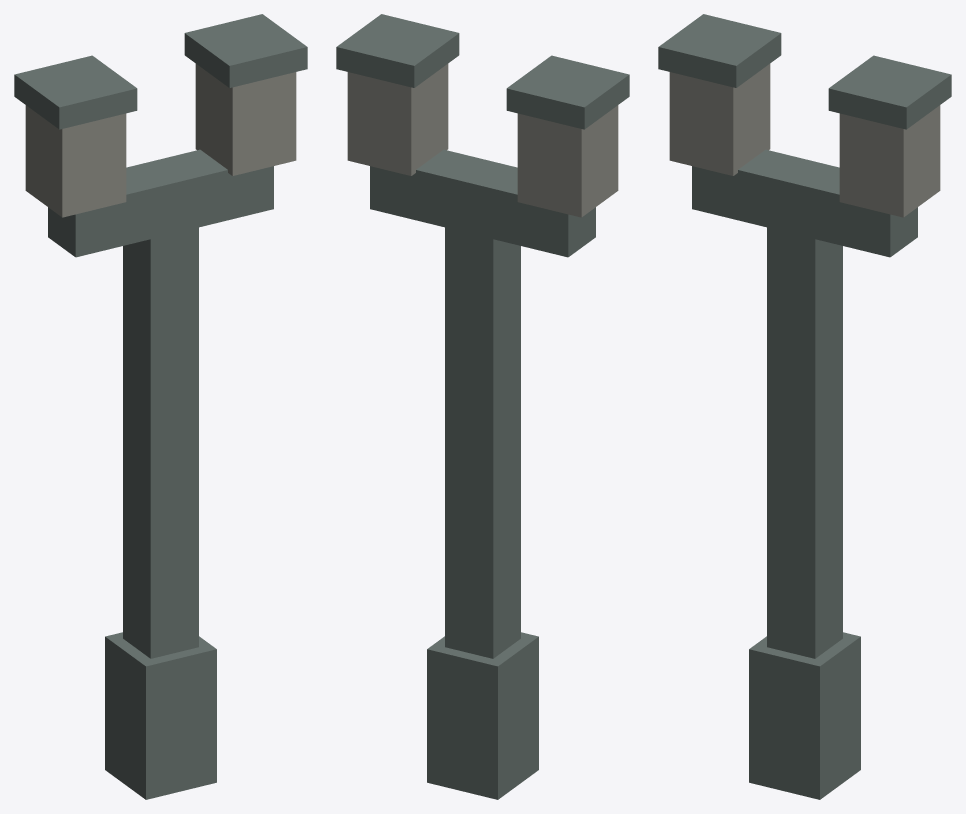
File: SM_Farola_v2_LOD1.fbx
3 views of the same model, side by side, from view 1: azimuth 30°, elevation 25°; view 2: azimuth 150°, elevation 25°; view 3: azimuth 330°, elevation 25° (orthographic).
Visible parts, largest first — view 1: SM_urbano_v7_LOD1; view 2: SM_urbano_v7_LOD1; view 3: SM_urbano_v7_LOD1.
Boxes of the visible parts, x1=… form: SM_urbano_v7_LOD1: x1=14, y1=14, x2=307, y2=799; SM_urbano_v7_LOD1: x1=336, y1=14, x2=629, y2=799; SM_urbano_v7_LOD1: x1=658, y1=14, x2=951, y2=799.
Bounding box in the file's own units: 1.75 × 4.82 × 0.55.
